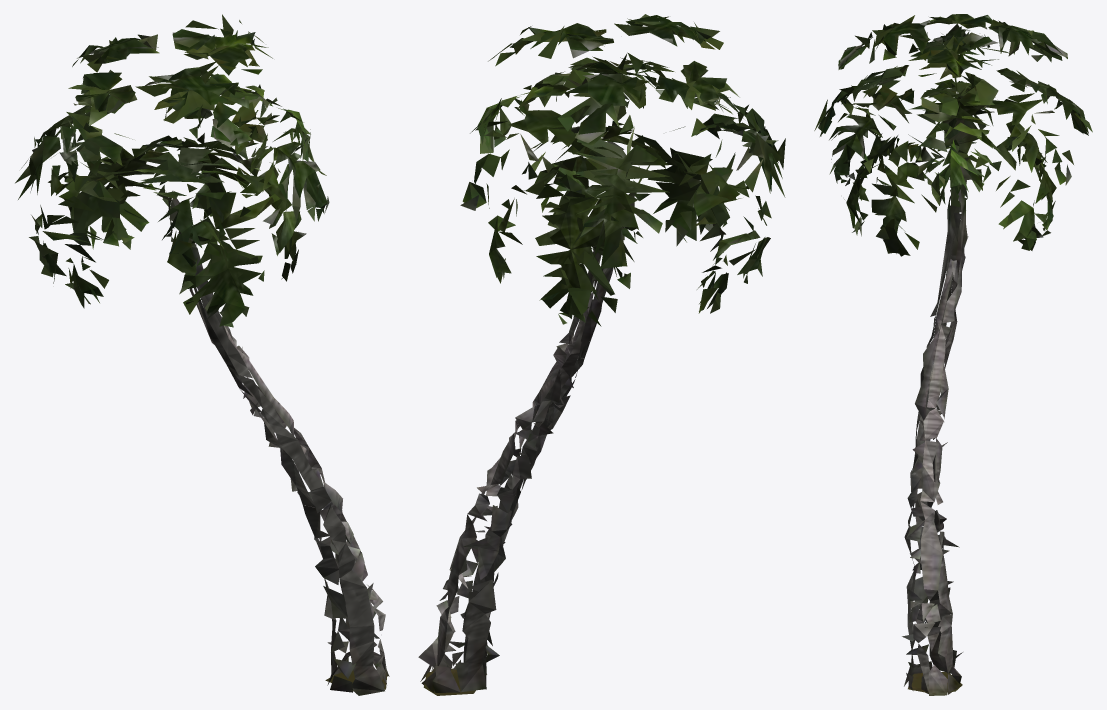
File: tree_jungle_d.glb
3 renders of one model, left to right at view 1: azimuth 30°, elevation 25°; view 2: azimuth 150°, elevation 25°; view 3: azimuth 270°, elevation 25°, orthographic. The views are drawn at different scales.
Visible parts, largest first — view 1: geometry_0; view 2: geometry_0; view 3: geometry_0.
Part boxes in pixels (x1,y1,x2,y2): geometry_0: [15, 14, 389, 695]; geometry_0: [418, 14, 785, 695]; geometry_0: [814, 14, 1092, 695].
Size of the model in its own units: 1.11 by 2 by 0.8615.
Materials: 1 (1 with a texture image).
